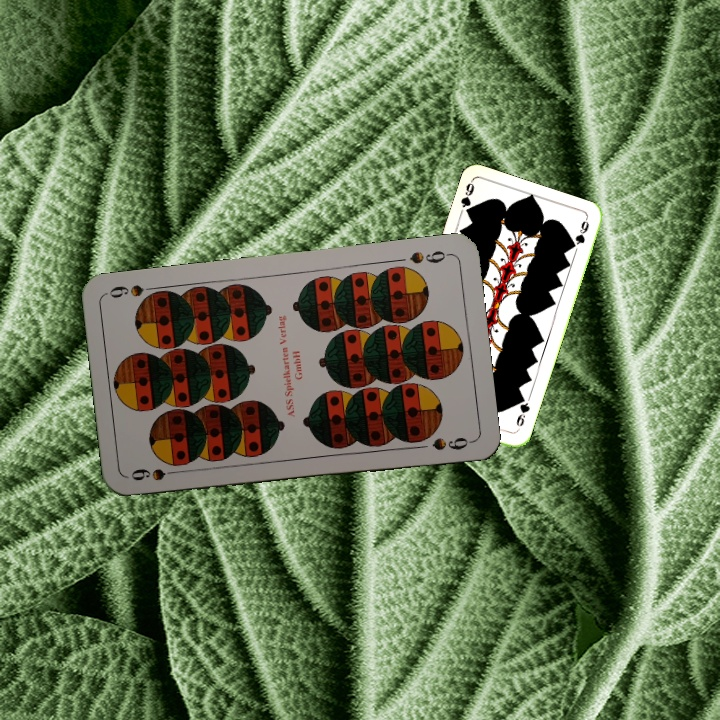G9: (457, 177, 477, 219), (512, 393, 532, 429)
S9: (127, 464, 186, 484), (406, 247, 453, 267)
